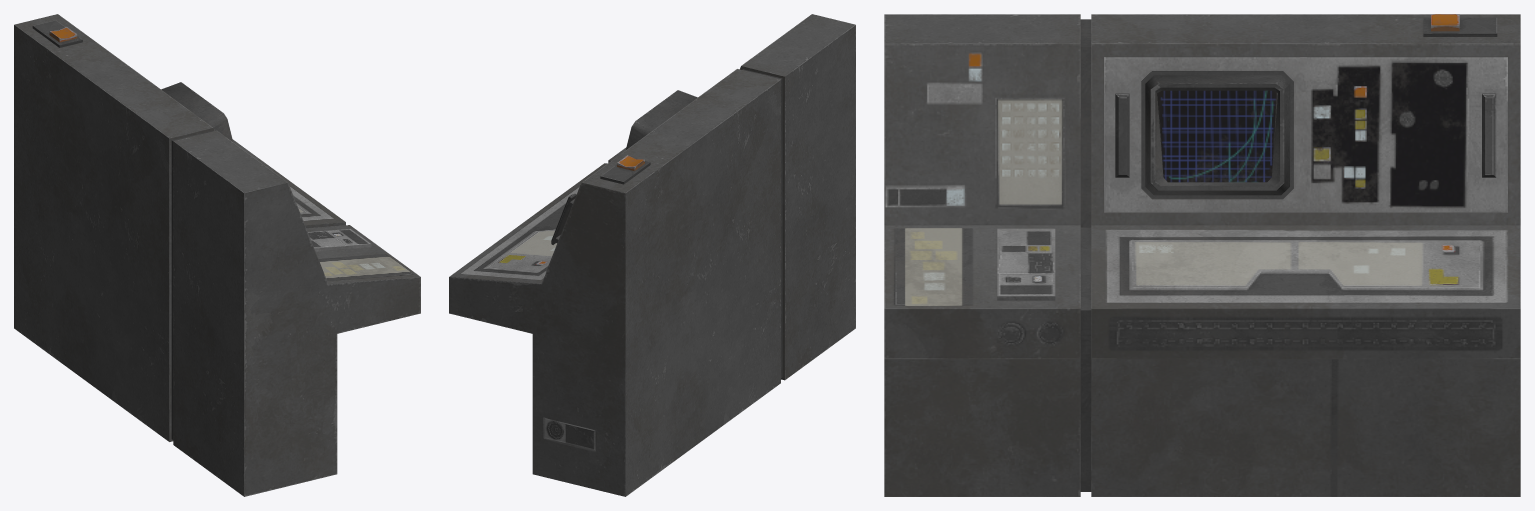
The model's file is BasicConsole (1).fbx.
3 renders of one model, left to right at view 1: azimuth 30°, elevation 25°; view 2: azimuth 150°, elevation 25°; view 3: azimuth 270°, elevation 25°, orthographic. The views are drawn at different scales.
Parts seen in each view (by area): view 1: Console_low; view 2: Console_low; view 3: Console_low.
Part boxes in pixels (box(x1,y1,x2,y2)): Console_low: box(14, 14, 420, 496); Console_low: box(449, 14, 855, 496); Console_low: box(884, 14, 1520, 496).
Bounding box in the file's own units: 85.09 × 143 × 192.
Materials: 1 (1 with a texture image).
